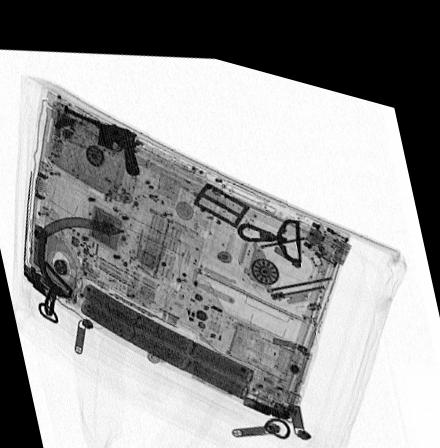Gun: (60, 101, 140, 167)
